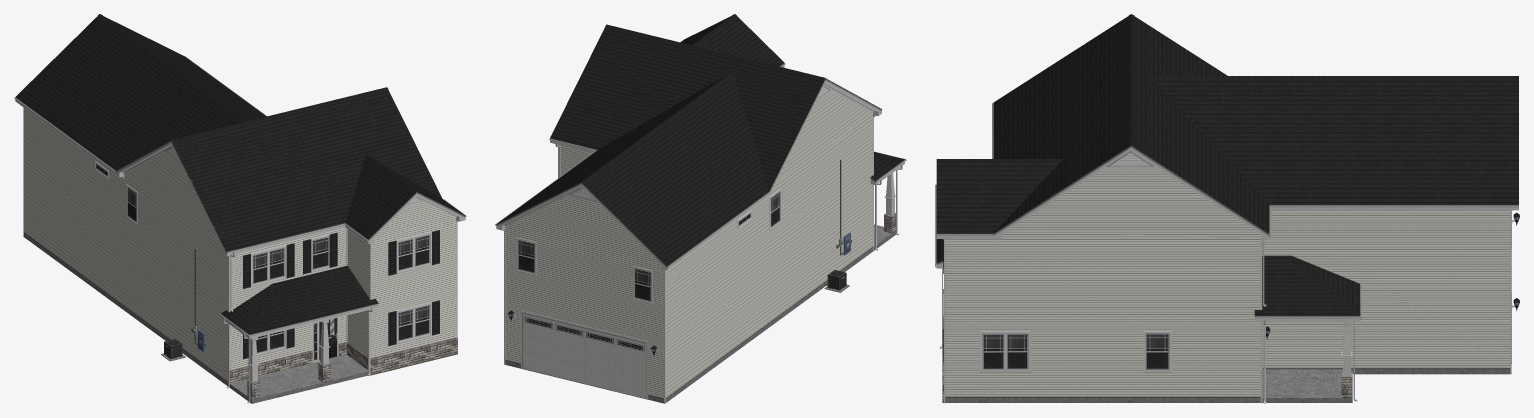
File: house8_mirror2.fbx
The picture shows the model from 3 angles, left to right: view 1: azimuth 30°, elevation 25°; view 2: azimuth 150°, elevation 25°; view 3: azimuth 270°, elevation 25°; orthographic projection. The views are drawn at different scales.
Visible parts, largest first — view 1: house8_mirror2_LOD0; view 2: house8_mirror2_LOD0; view 3: house8_mirror2_LOD0.
Part boxes in pixels (x1,y1,x2,y2): house8_mirror2_LOD0: (14, 14, 466, 403); house8_mirror2_LOD0: (495, 14, 906, 403); house8_mirror2_LOD0: (935, 14, 1519, 403).
Size of what is drawn, in the model's own units: 2.91 by 2.54 by 5.15.
